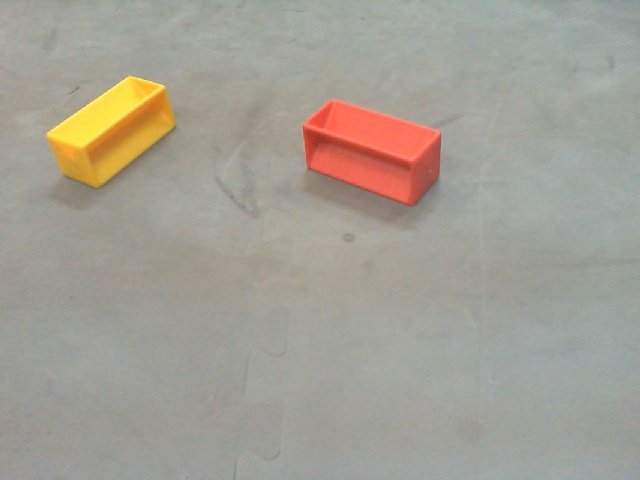RedSample: (301, 99, 440, 206)
YellowSample: (43, 73, 176, 191)
